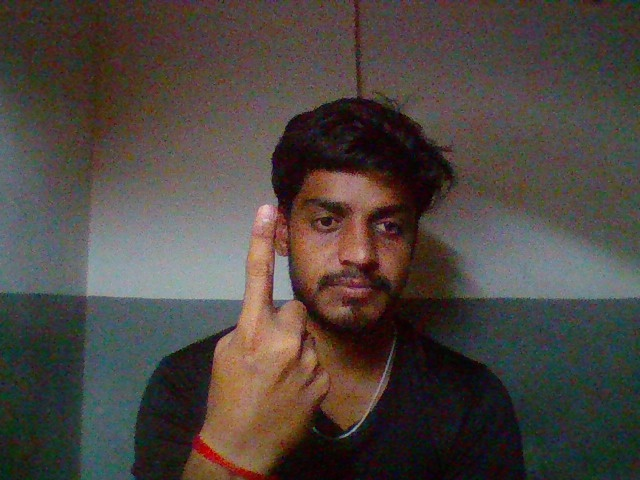I: (166, 191, 350, 463)
